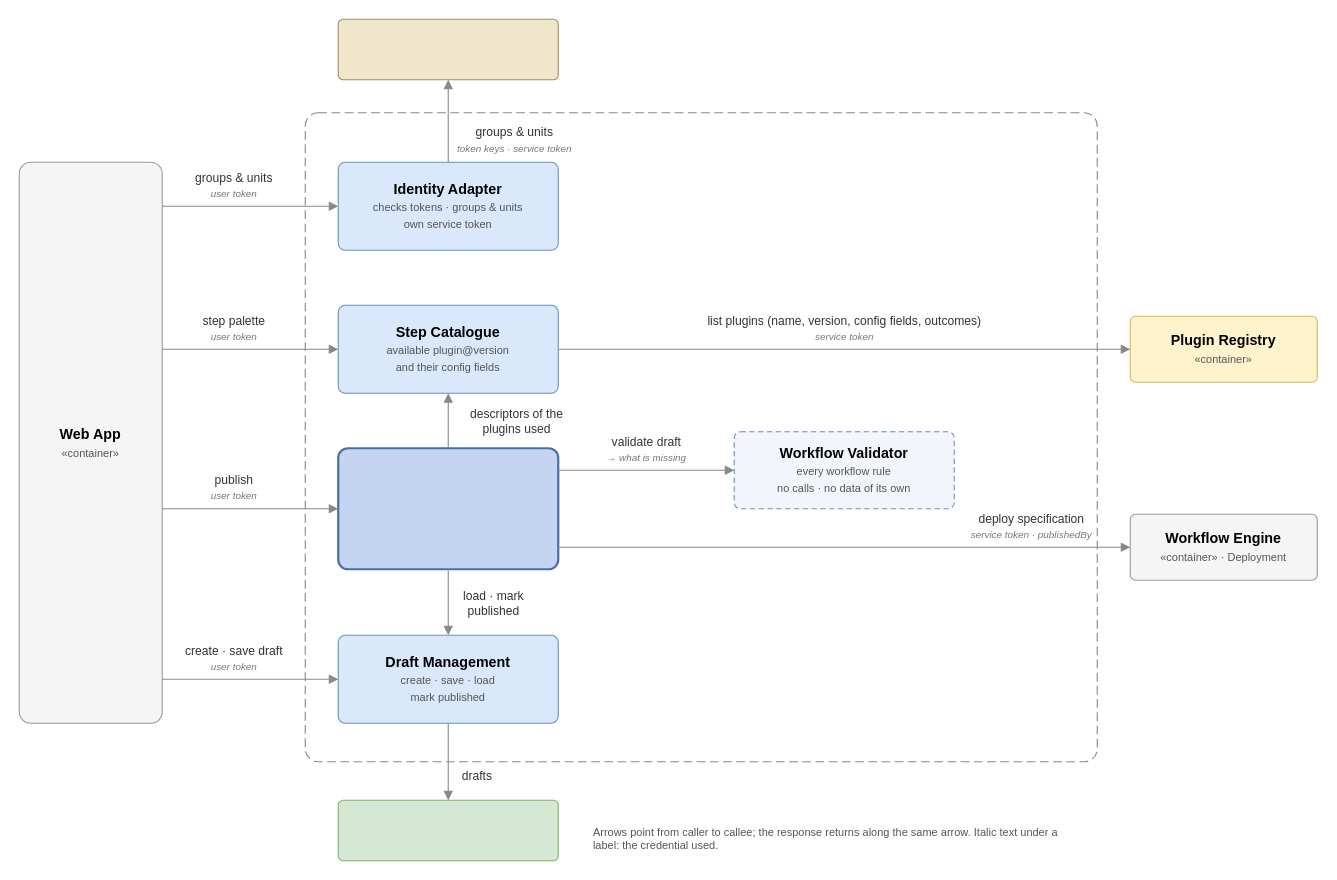
The diagram is 1337 pixels wide and 880 high, and some of its shapes have lost their labels. The shapes that lost their labels are listed below. From the top down, each one's box as (x1, y1, x2, y2) in pixels, then its label:
(337, 18, 558, 80): Identity Provider «external»
(304, 112, 1097, 762): Workflow Designer
(337, 447, 559, 570): Specification Publisher validate → build spec → deploy safe to retry
(337, 799, 558, 861): Designer store «container»
